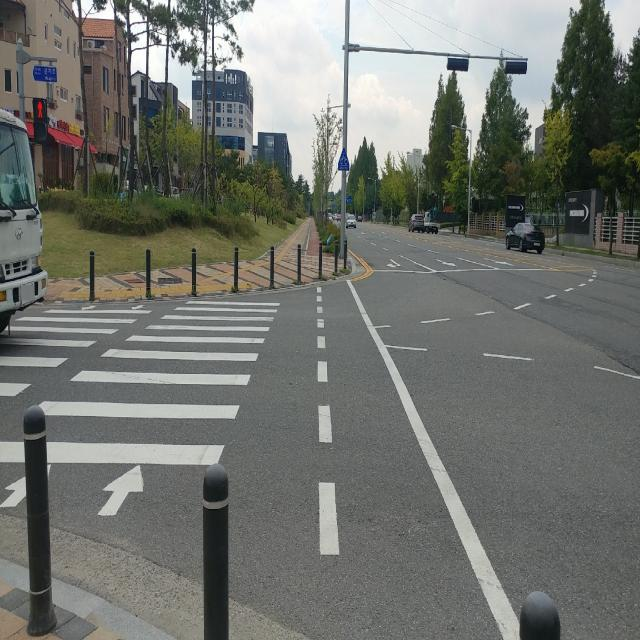빨간불: (34, 101, 46, 138)
횡단보도: (0, 298, 281, 520)
